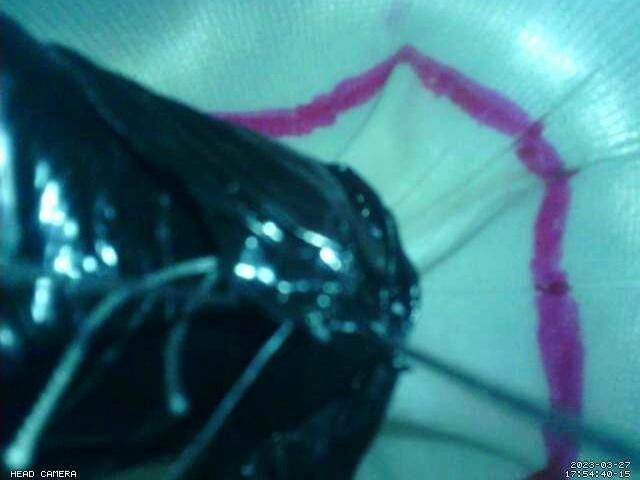red-circle: (211, 43, 586, 480)
